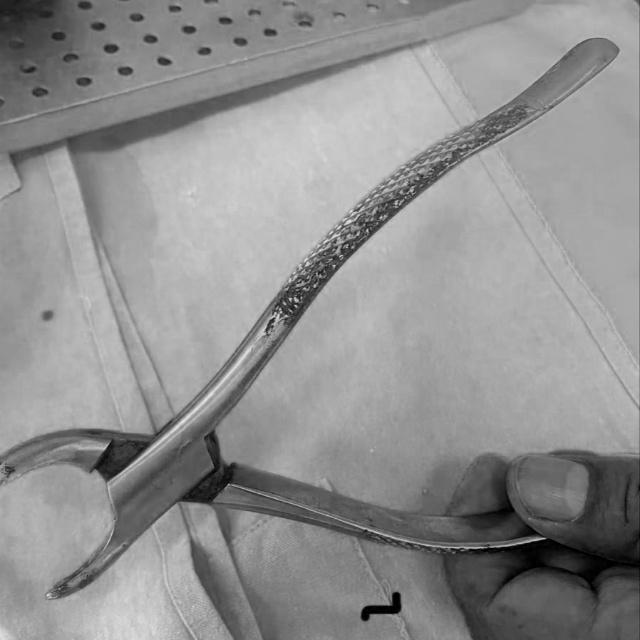forceps: (0, 38, 620, 601)
